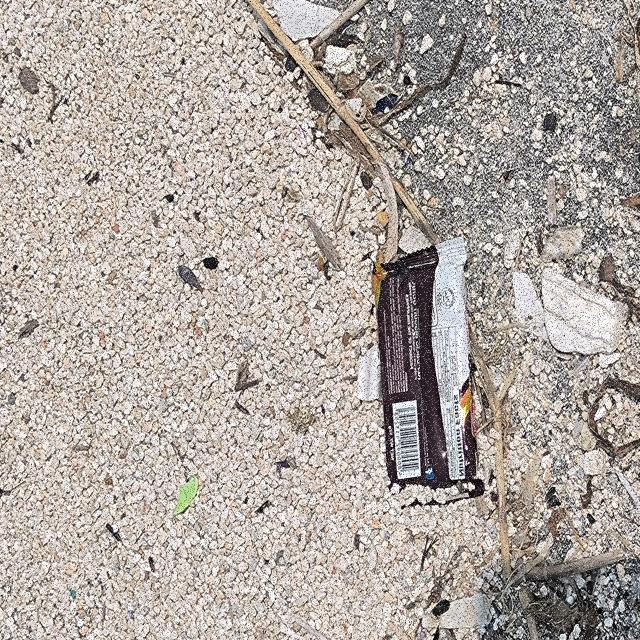plastic_waste: (377, 235, 481, 493)
